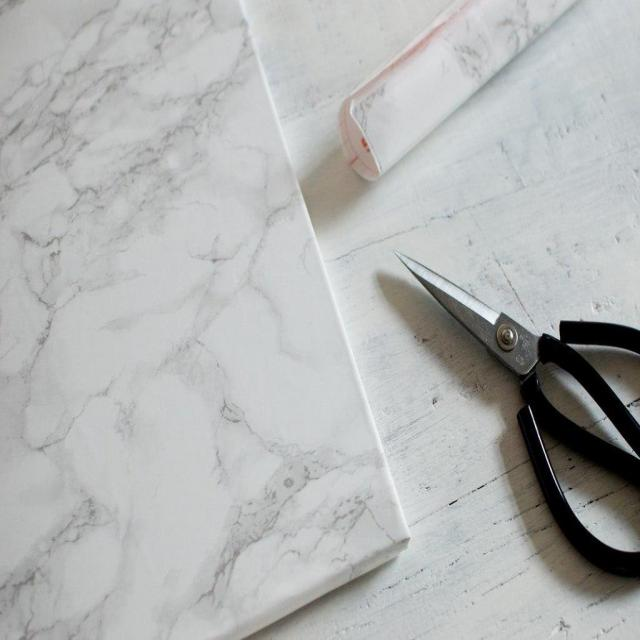scissor: (394, 250, 640, 579)
